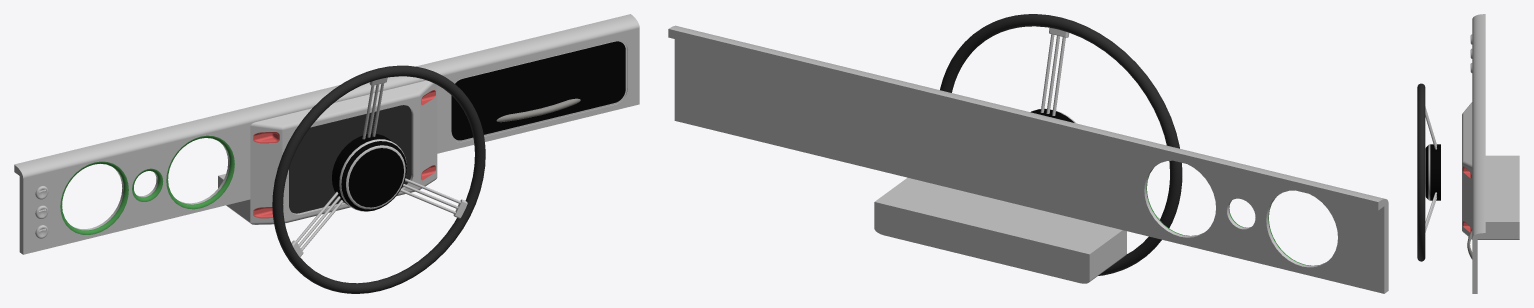
Rendered from defender_interior v8.fbx.
3 views of the same model, side by side, from view 1: azimuth 30°, elevation 25°; view 2: azimuth 150°, elevation 25°; view 3: azimuth 270°, elevation 25° (orthographic). The views are drawn at different scales.
Parts seen in each view (by area): view 1: Body1, Body2; view 2: Body1, Body2; view 3: Body1, Body2.
Boxes of the visible parts, x1,y1,x2,y2 form: Body1: (14,14,639,254); Body2: (272,65,485,293); Body1: (668,25,1388,293); Body2: (940,14,1182,275); Body1: (1462,14,1519,293); Body2: (1417,83,1440,261).
Bounding box in the file's own units: 9.89 × 3.4 × 1.95.
